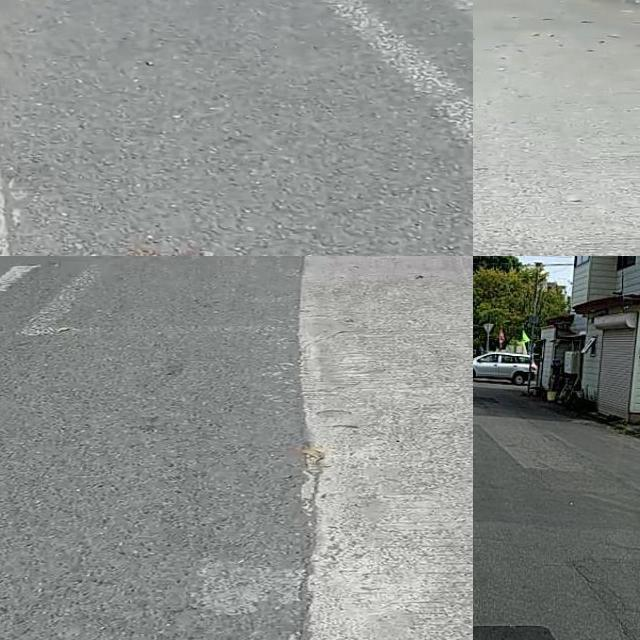Sambungan: (278, 256, 473, 640), (473, 0, 640, 256), (473, 427, 555, 524)
